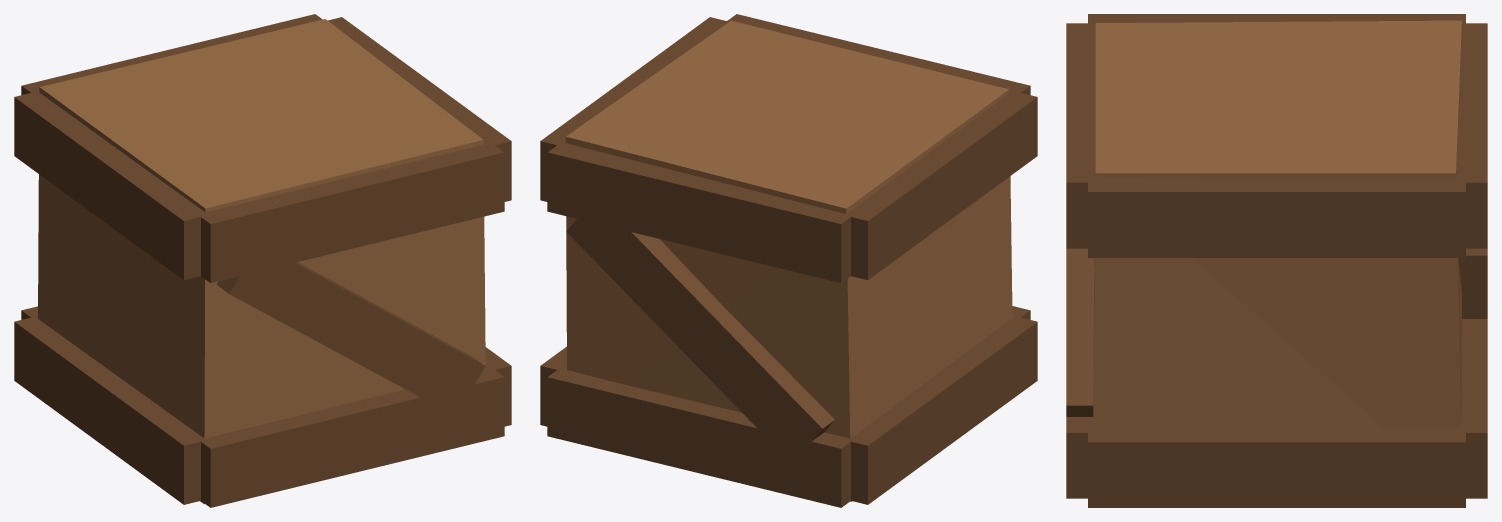
The model's file is SM_Crate_B.fbx.
3 renders of one model, left to right at view 1: azimuth 30°, elevation 25°; view 2: azimuth 150°, elevation 25°; view 3: azimuth 270°, elevation 25°, orthographic. The views are drawn at different scales.
Visible parts, largest first — view 1: SM_Crate_B; view 2: SM_Crate_B; view 3: SM_Crate_B.
Part boxes in pixels (bbox=[...]): SM_Crate_B: bbox=[14, 14, 511, 507]; SM_Crate_B: bbox=[540, 14, 1037, 507]; SM_Crate_B: bbox=[1066, 14, 1487, 507].
Bounding box in the file's own units: 0.58 × 0.5026 × 0.58.
